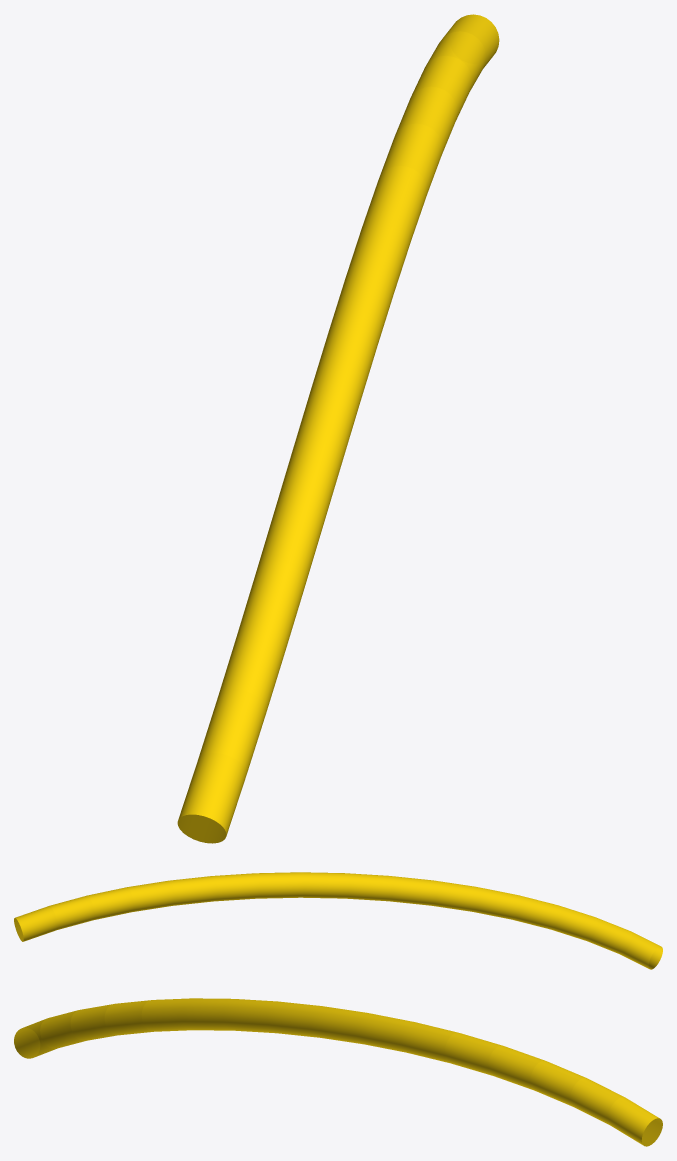
File: Event_420107950_track_56.fbx
The picture shows the model from 3 angles, top to bottom: view 1: azimuth 30°, elevation 25°; view 2: azimuth 150°, elevation 25°; view 3: azimuth 270°, elevation 25°; orthographic projection. The views are drawn at different scales.
Parts seen in each view (by area): view 1: Model; view 2: Model; view 3: Model.
Boxes of the visible parts, x1,y1,x2,y2 form: Model: (177,14,499,843); Model: (14,872,662,969); Model: (14,998,662,1146).
Size of the model in its own units: 0.73 by 0.2626 by 0.8145.
